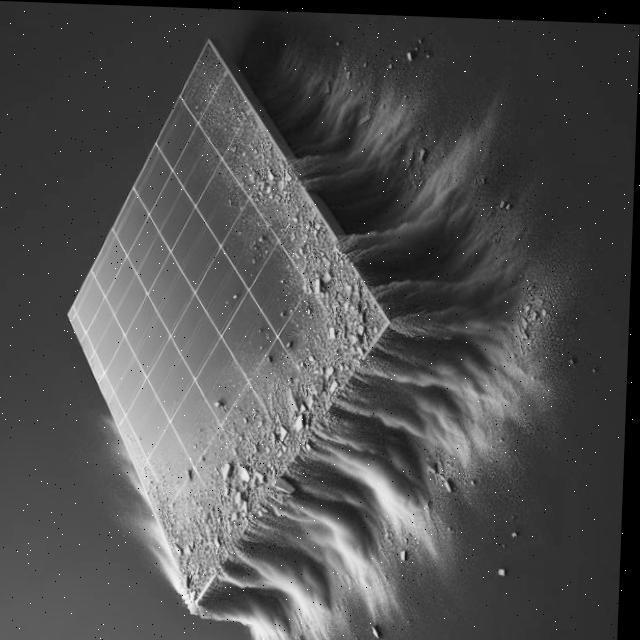Anomaly Solar Panel: (0, 40, 461, 601)
Surface Contaminant: (103, 43, 431, 625)
